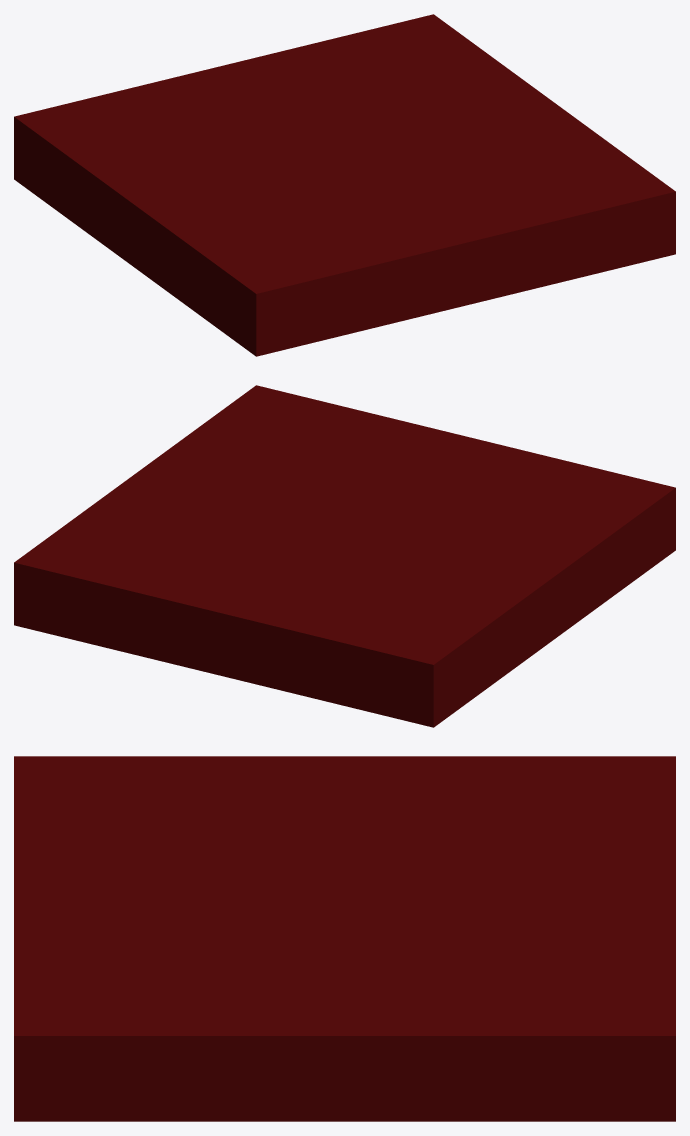
The model's file is gm_floor_0.cube.obj.
The picture shows the model from 3 angles, top to bottom: view 1: azimuth 30°, elevation 25°; view 2: azimuth 150°, elevation 25°; view 3: azimuth 270°, elevation 25°; orthographic projection. The views are drawn at different scales.
Size of the model in its own units: 7 by 1 by 7.
Materials: 1 (1 with a texture image).
